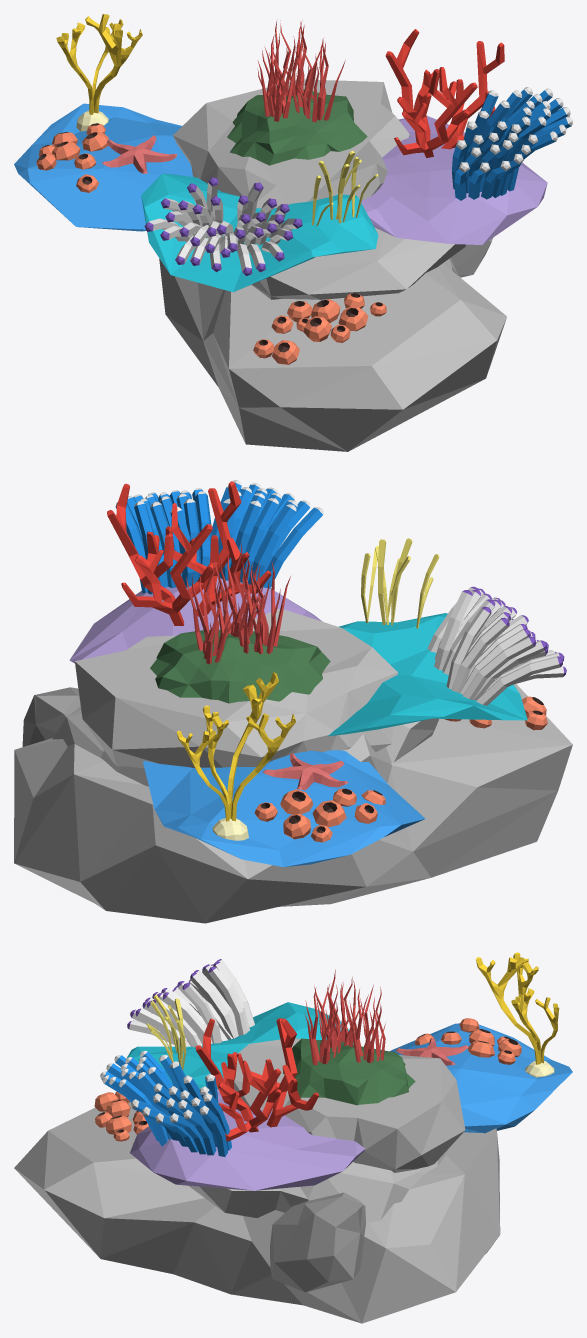
File: Coral_reef_009.glb
3 views of the same model, one above another, from view 1: azimuth 30°, elevation 25°; view 2: azimuth 150°, elevation 25°; view 3: azimuth 270°, elevation 25° (orthographic). The views are drawn at different scales.
Parts seen in each view (by area): view 1: Coral_reef_009; view 2: Coral_reef_009; view 3: Coral_reef_009.
Boxes of the visible parts, left/top/right/bottom form: Coral_reef_009: left=14, top=14, right=572, bottom=451; Coral_reef_009: left=14, top=480, right=572, bottom=923; Coral_reef_009: left=14, top=952, right=572, bottom=1323.
Size of the model in its own units: 3.93 by 2.76 by 4.88.
1 material, 1 textured.
